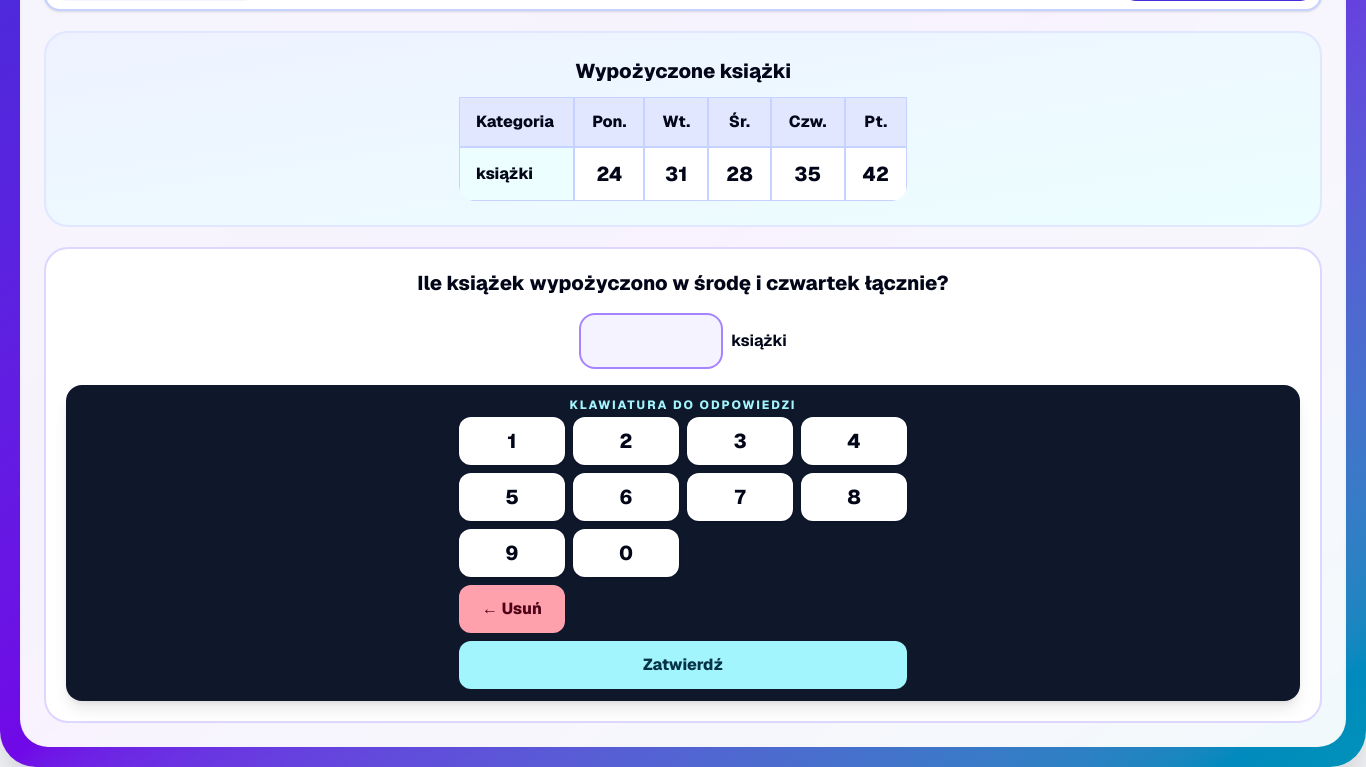
InformationReadingLessonLab › blokuje pustą odpowiedź i wyłącza klawiaturę urządzenia
This screenshot has width=1366, height=767.
(page scrolled)
Click the button "Zatwierdź". click: (683, 665)
box: 459,641 -> 907,689
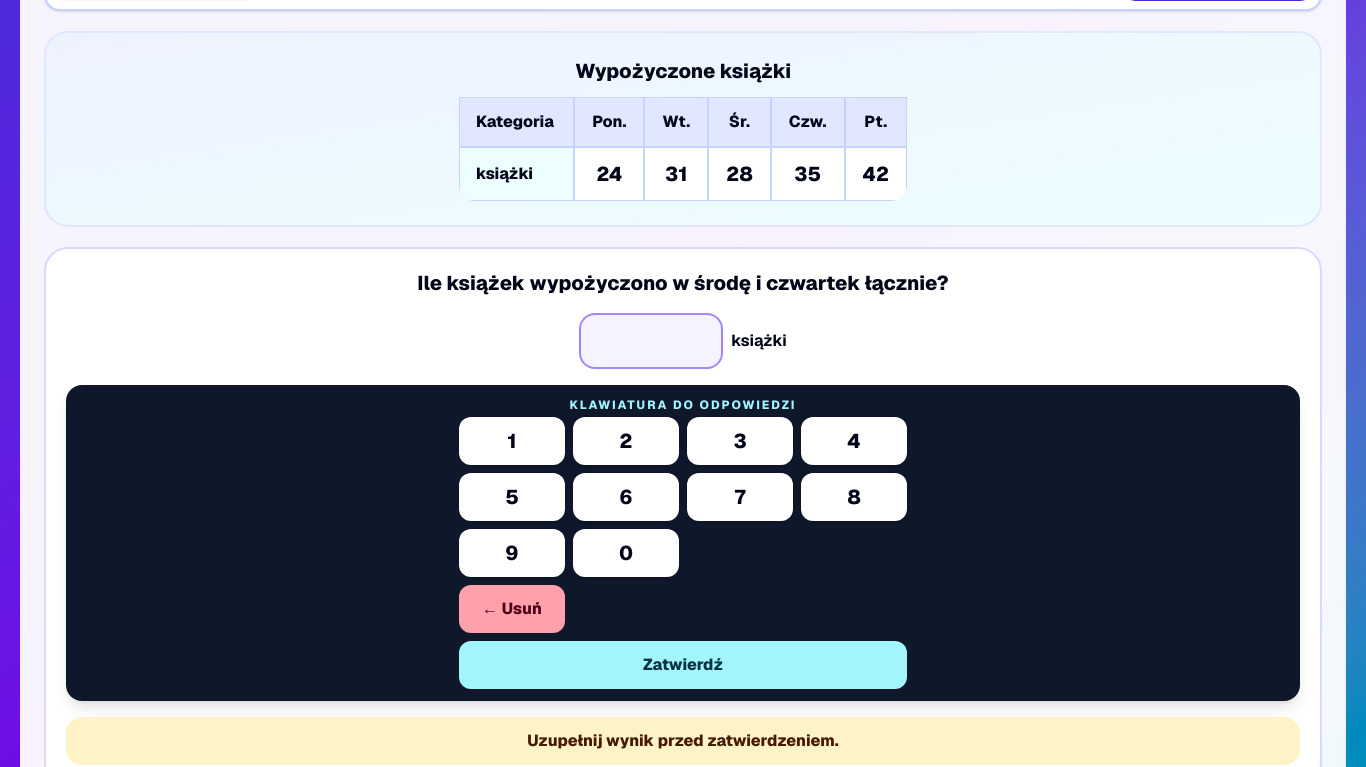
Now the text "Uzupełnij wynik przed zatwierdzeniem." is shown, box 66,717 -> 1300,765
